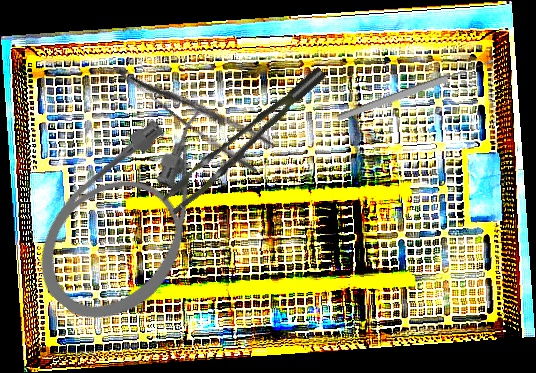Cannula: (13, 83, 262, 346)
Dressing Forceps: (115, 42, 277, 177)
Surgical Spoon: (336, 57, 495, 123)
Tissue Forceps: (149, 66, 343, 216)
